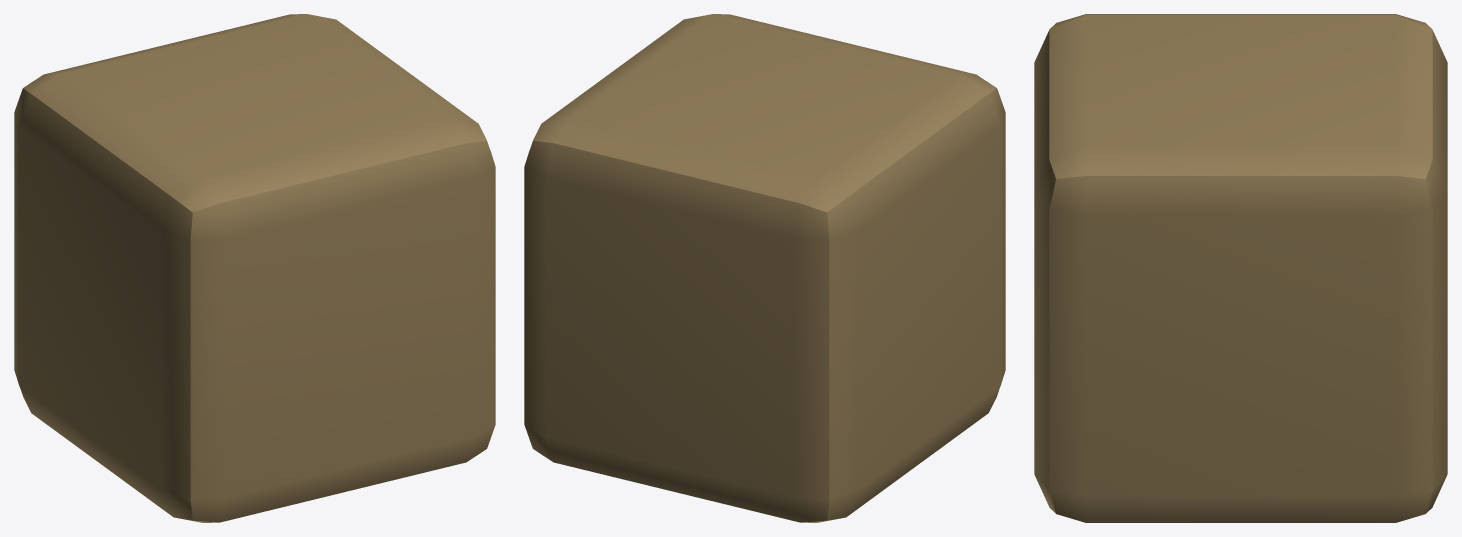
Rendered from block_med.fbx.
The picture shows the model from 3 angles, left to right: view 1: azimuth 30°, elevation 25°; view 2: azimuth 150°, elevation 25°; view 3: azimuth 270°, elevation 25°; orthographic projection. The views are drawn at different scales.
Parts seen in each view (by area): view 1: block_med; view 2: block_med; view 3: block_med.
Boxes of the visible parts, x1,y1,x2,y2 form: block_med: [14, 14, 495, 522]; block_med: [524, 14, 1005, 522]; block_med: [1034, 14, 1447, 522].
Size of the model in its own units: 35 by 35 by 35.
